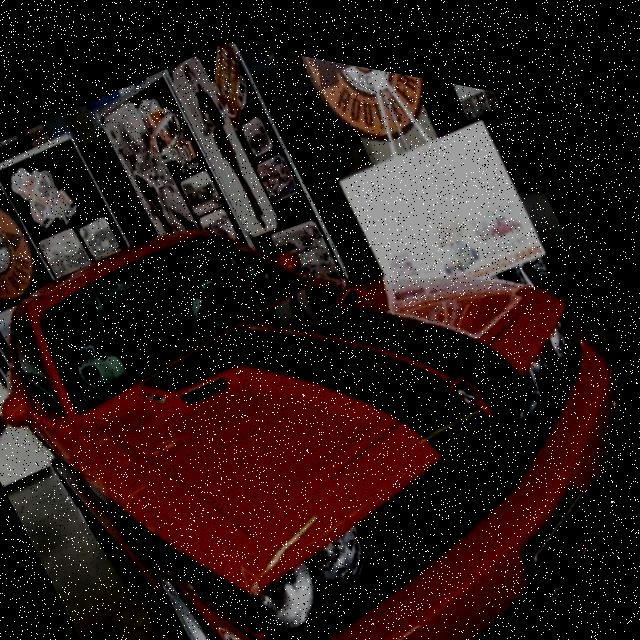license_plate: (506, 458, 616, 597)
